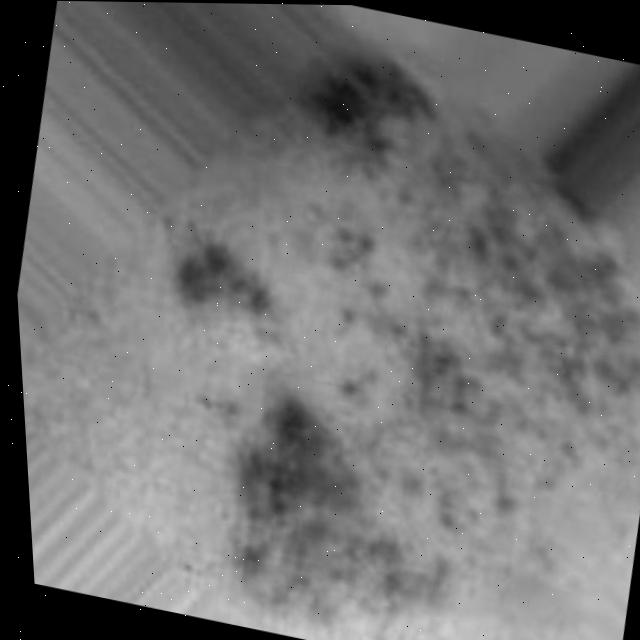Shingles: (413, 209, 640, 485), (184, 392, 440, 635), (308, 31, 452, 158), (159, 220, 289, 337)
